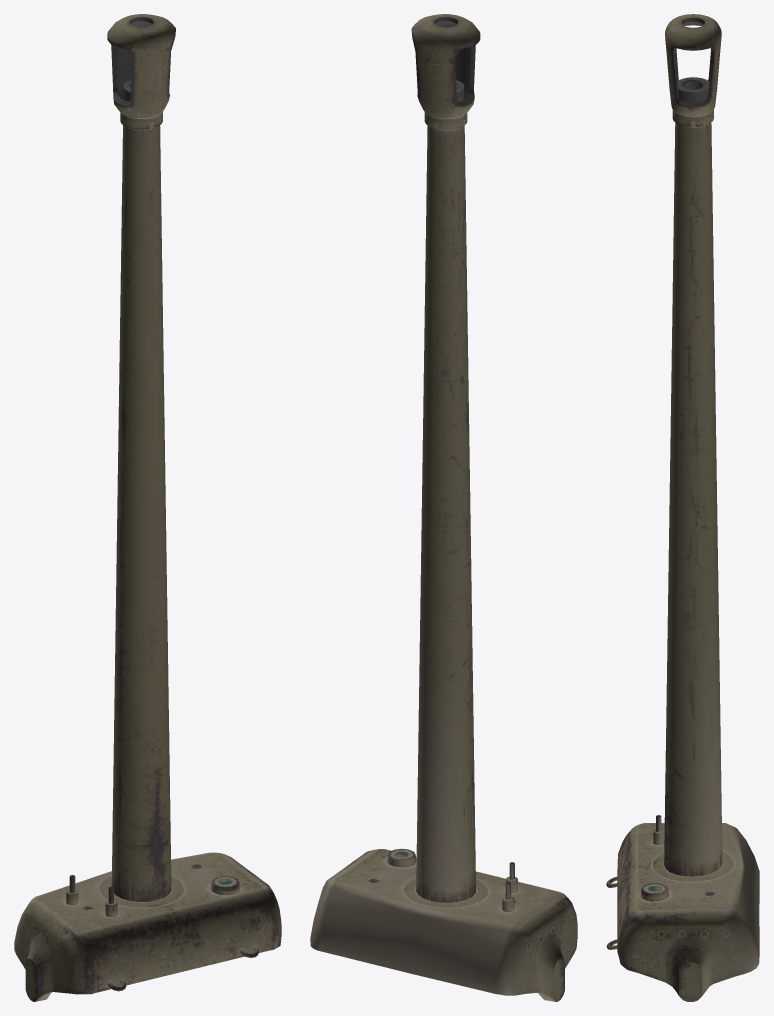
File: Gun_01.glb
3 renders of one model, left to right at view 1: azimuth 30°, elevation 25°; view 2: azimuth 150°, elevation 25°; view 3: azimuth 270°, elevation 25°, orthographic. The views are drawn at different scales.
Parts seen in each view (by area): view 1: set_0_group_0; view 2: set_0_group_0; view 3: set_0_group_0.
Part boxes in pixels (x1=…): set_0_group_0: x1=14, y1=14, x2=281, y2=1001; set_0_group_0: x1=310, y1=14, x2=577, y2=1001; set_0_group_0: x1=606, y1=14, x2=759, y2=1001.
Bounding box in the file's own units: 1.54 × 6.05 × 0.9116.
Materials: 1 (1 with a texture image).
